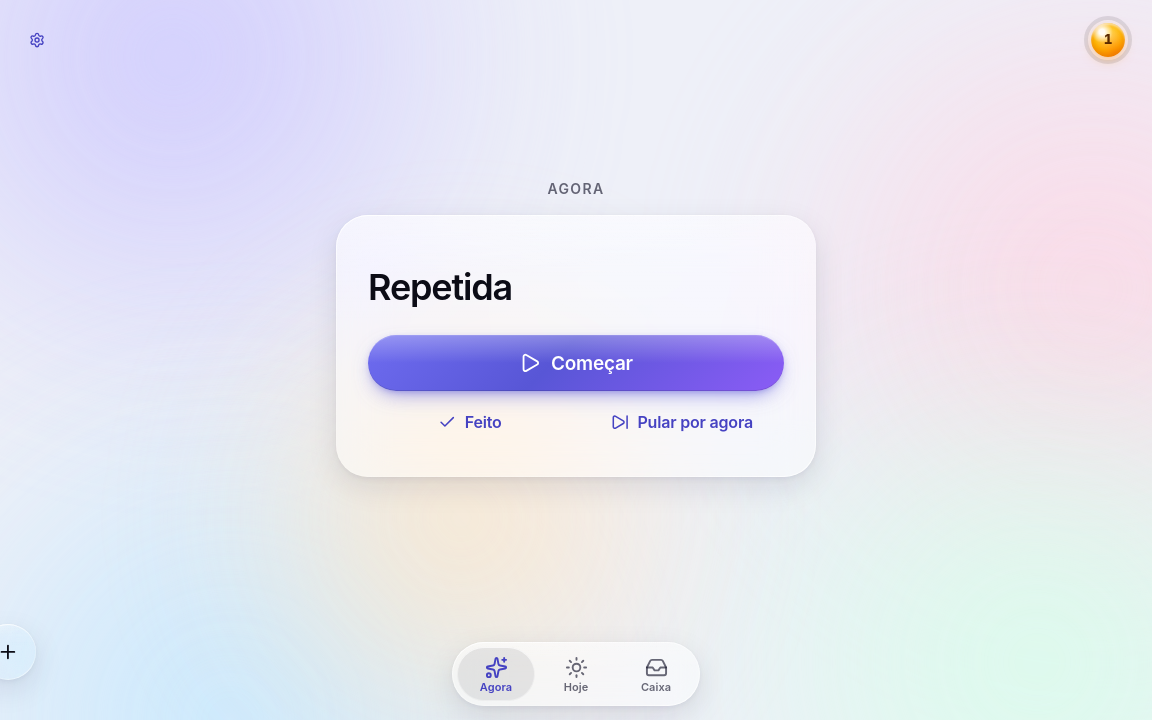
Test case: Agora › re-concluir após Desfazer não mostra "+0 XP"
Step 1. Click the button "Feito" → (470, 422), box [368,399,572,445]
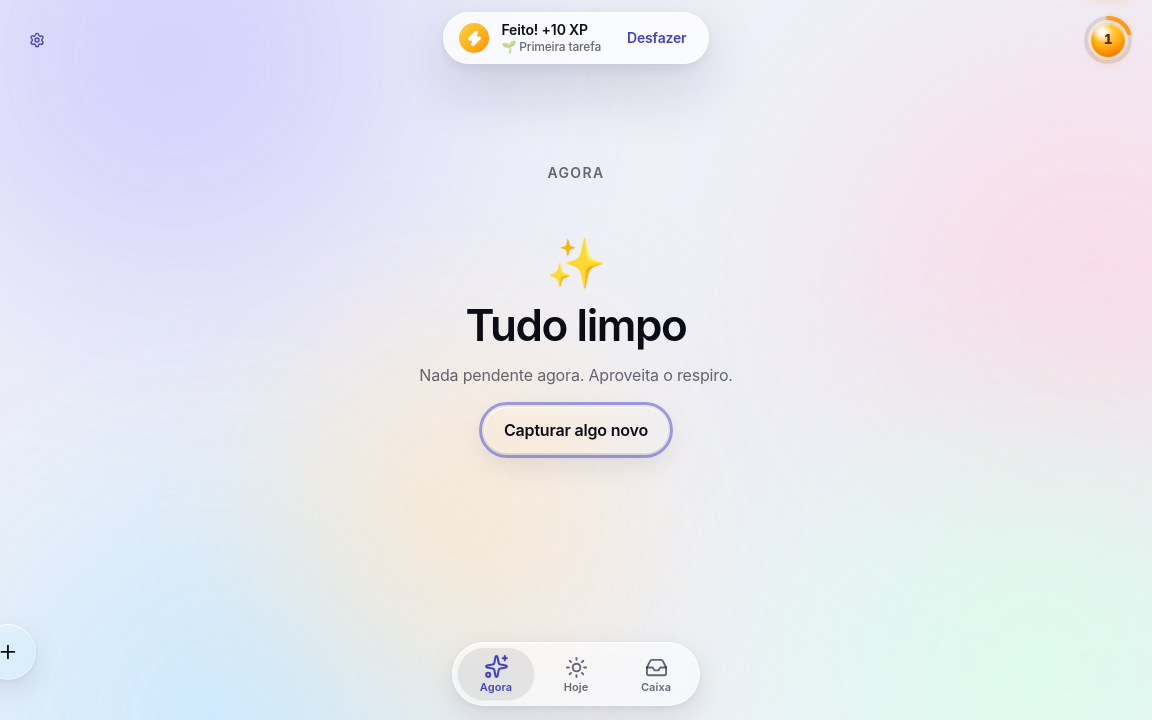
Step 2. Click the button "Desfazer" → (657, 38), box [613,21,700,55]
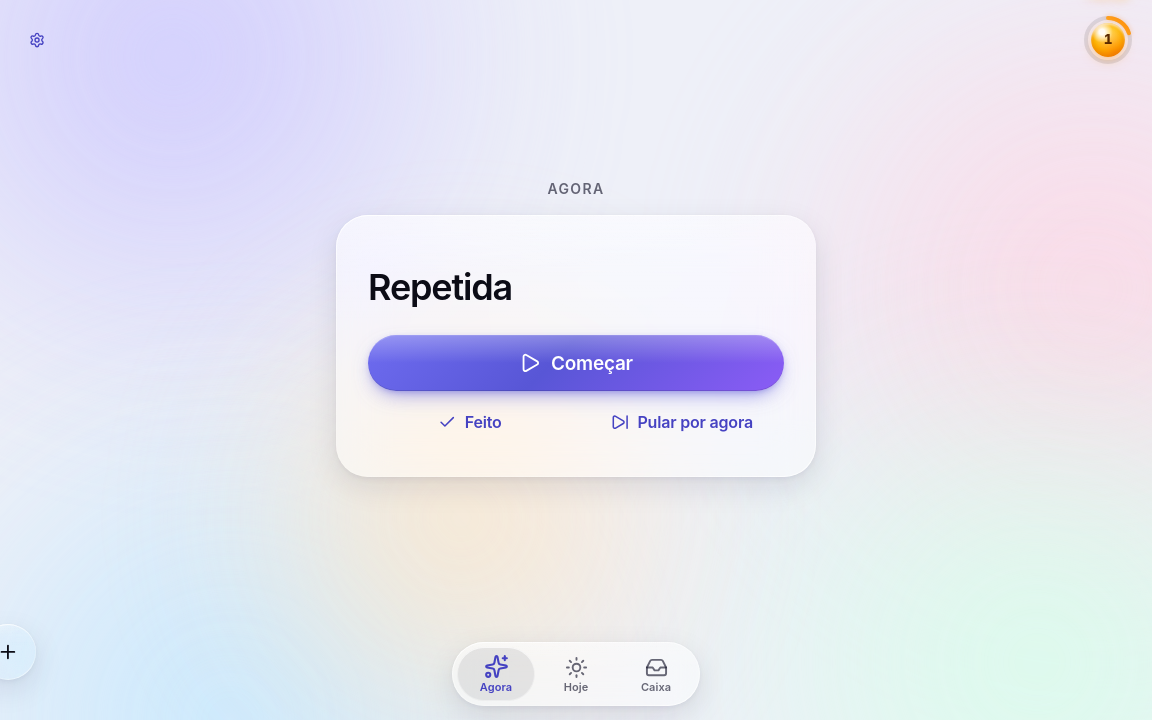
Step 3. Click the button "Feito" → (470, 422), box [368,399,572,445]
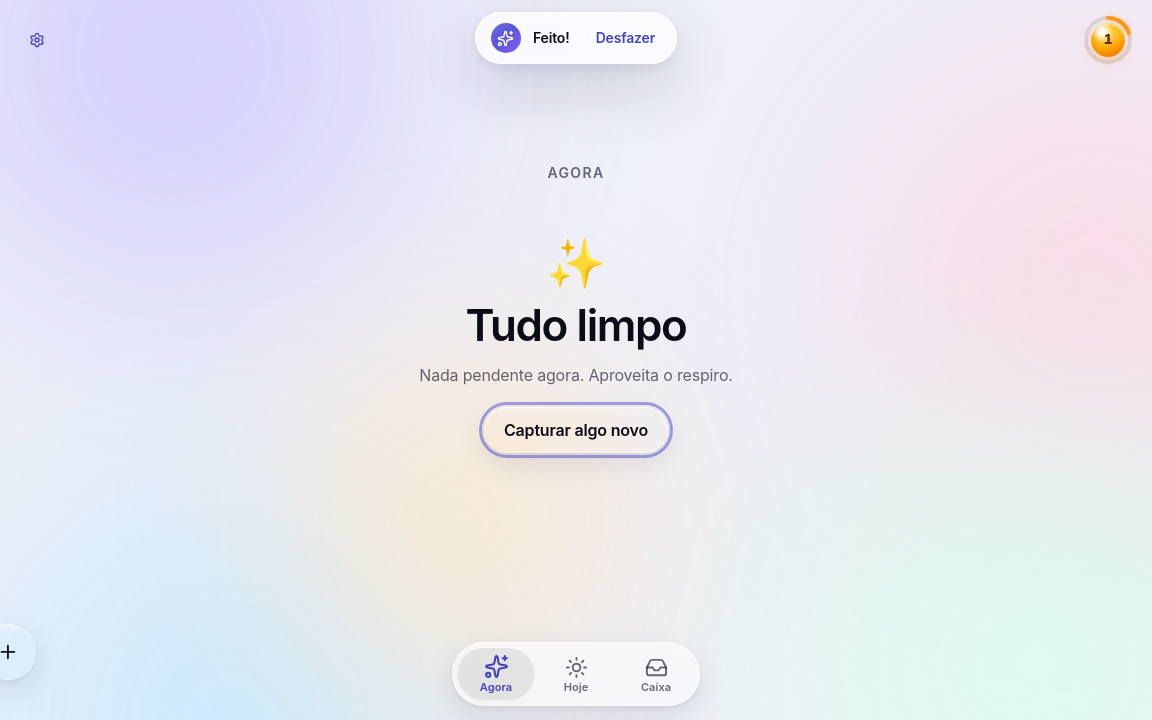
Check: the text "Feito!" is shown, box [533,29,570,47]
